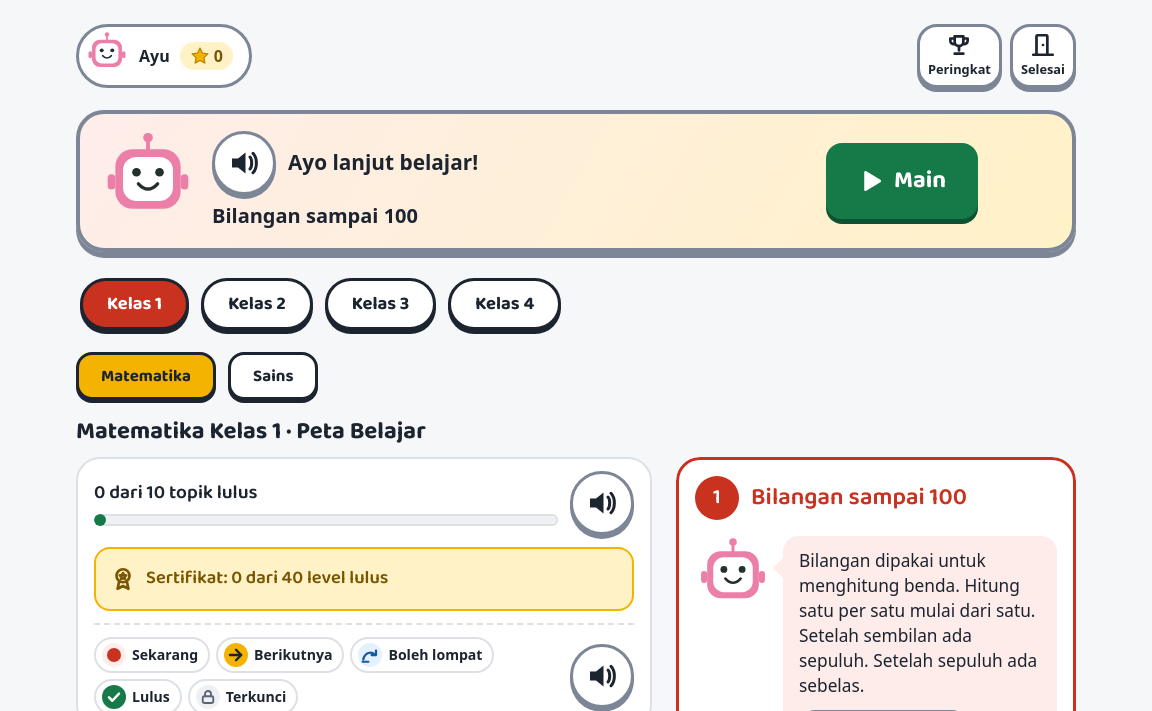
Test: halaman anak › beranda menampilkan Peta Belajar dengan pilihan Kelas 1 sampai 4
Check: the navigation bar named "Pilih kelas" shows "Kelas 1", box [80,278,189,330]
Check: the navigation bar named "Pilih kelas" shows "Kelas 2", box [201,278,313,330]
Click the button "Kelas 4" at [505, 304], box [448,278,561,330]
(page scrolled)
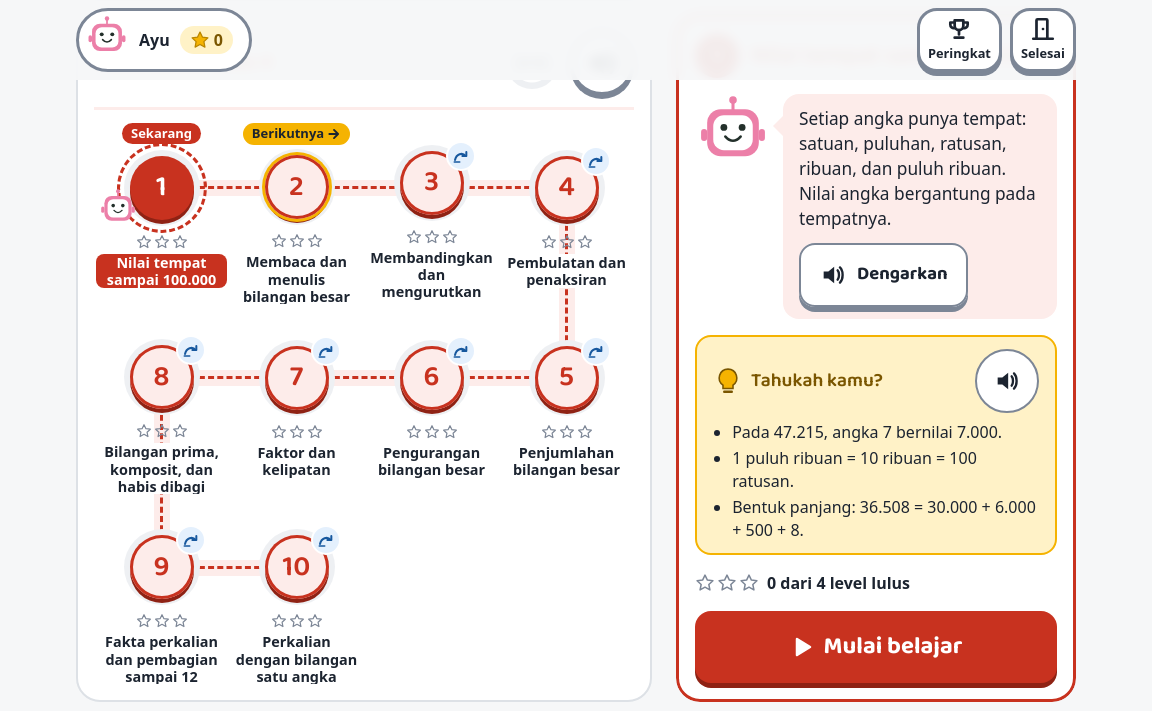
Check: the link "Mulai belajar" is shown, box [695,611,1057,683]
Check: the button "Sekarang 1 Nilai tempat sampai 100.000" is shown, box [94,122,229,304]
